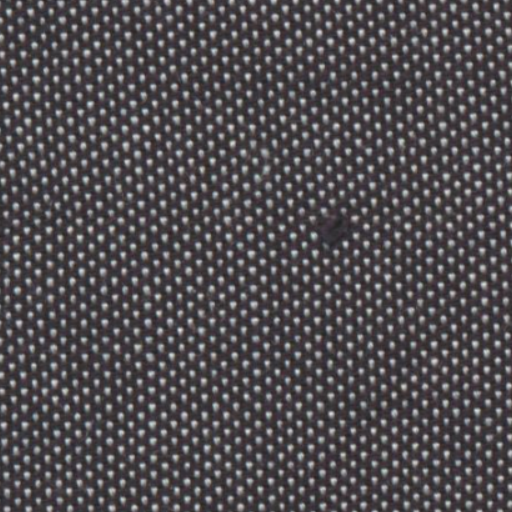MianQiu: (292, 186, 368, 250)
